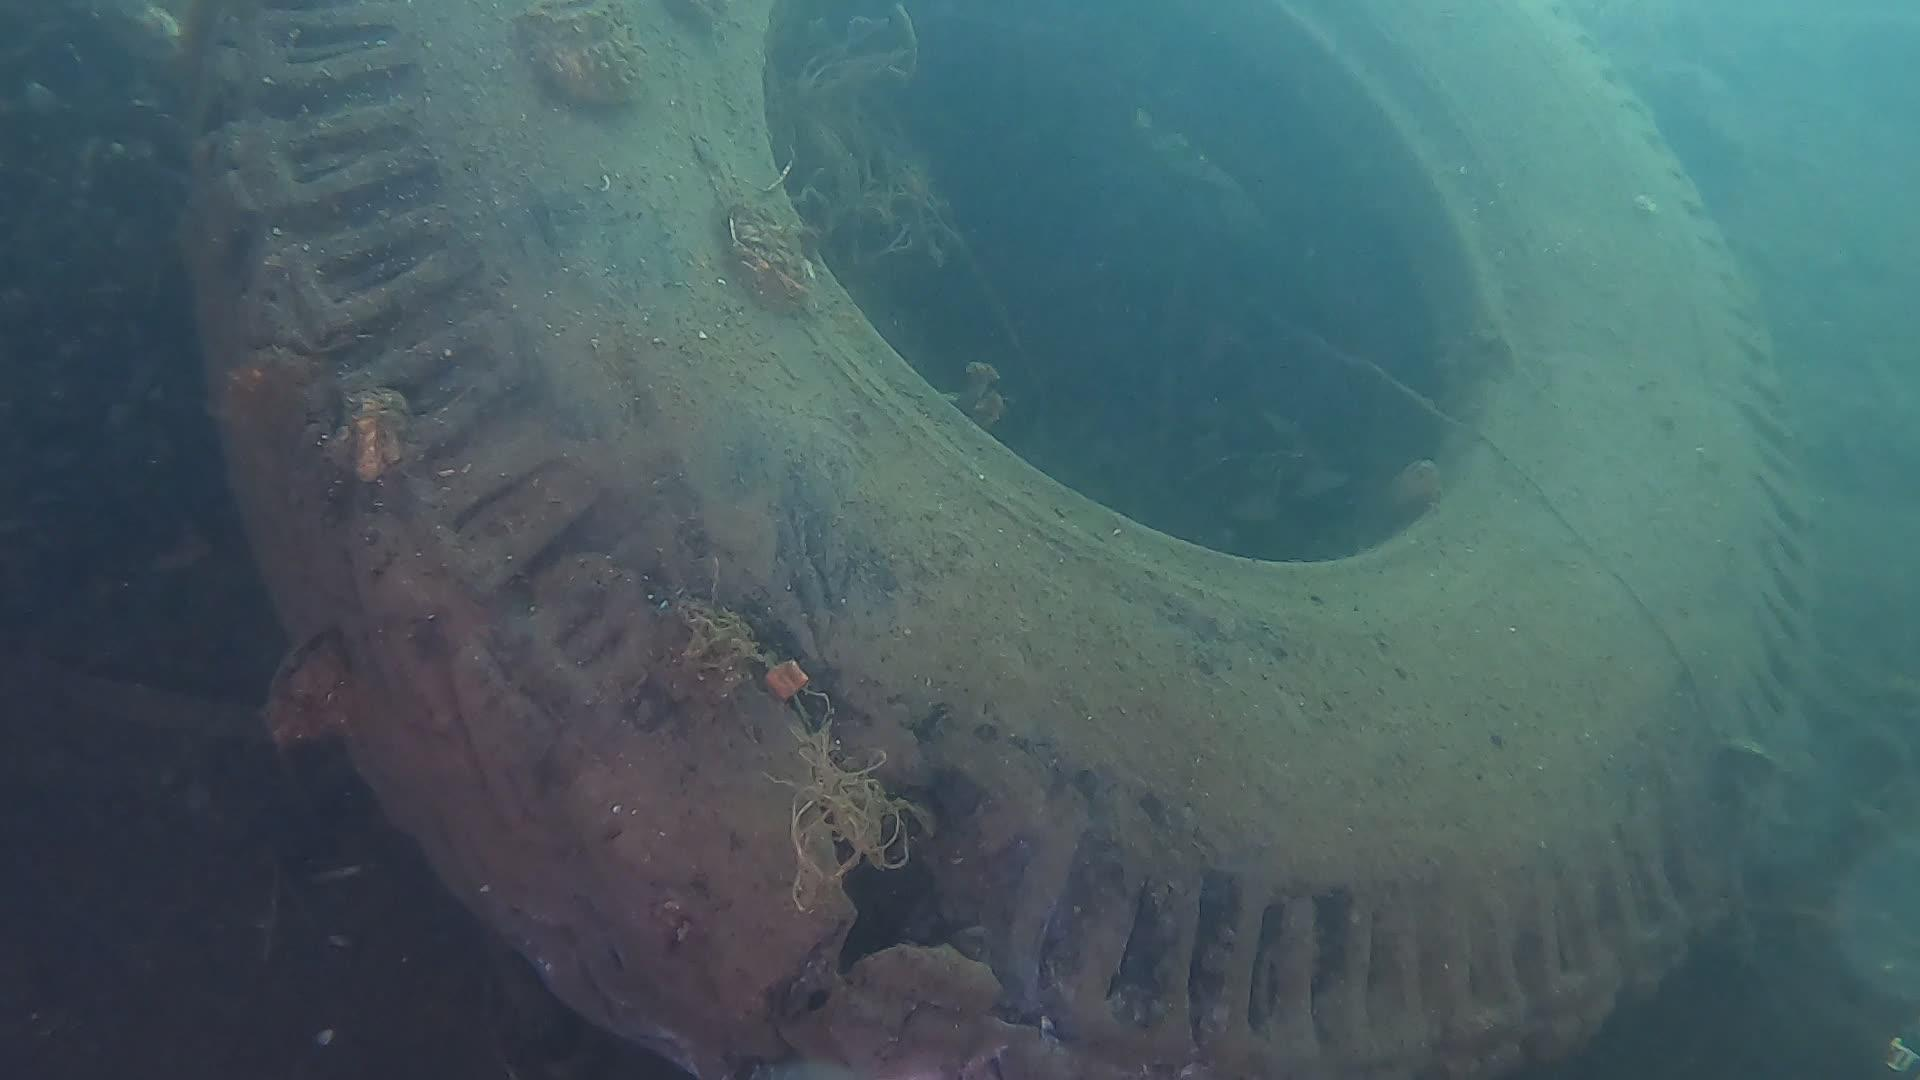tire: (183, 0, 1825, 1080)
